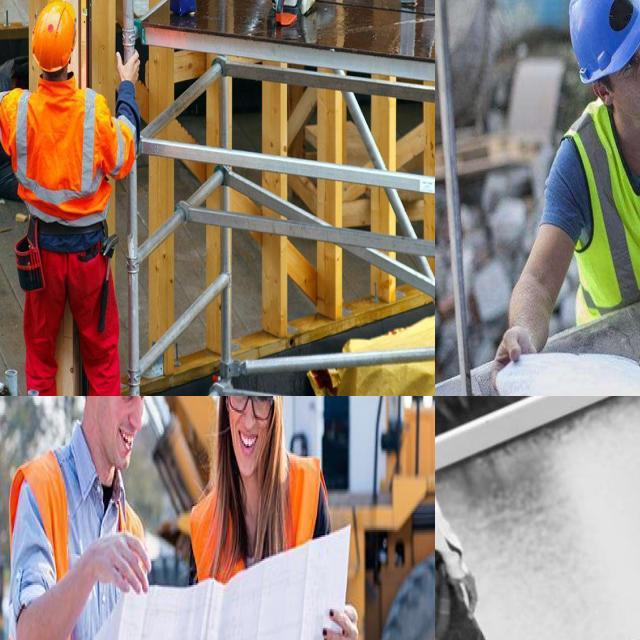No_Glasses: (116, 396, 153, 409)
face_nomask: (90, 396, 147, 473), (220, 396, 268, 485), (609, 41, 640, 110)
glasses: (225, 396, 275, 427)
hand_noglove: (82, 532, 150, 621), (485, 319, 541, 383), (324, 591, 359, 640), (116, 45, 146, 90)
head_helmet: (562, 0, 640, 75), (31, 0, 78, 71)
person: (0, 0, 140, 396), (511, 0, 640, 347), (2, 396, 176, 640), (184, 396, 358, 640)
vest: (7, 434, 152, 640), (192, 463, 335, 640), (9, 79, 113, 230), (568, 102, 640, 302)
